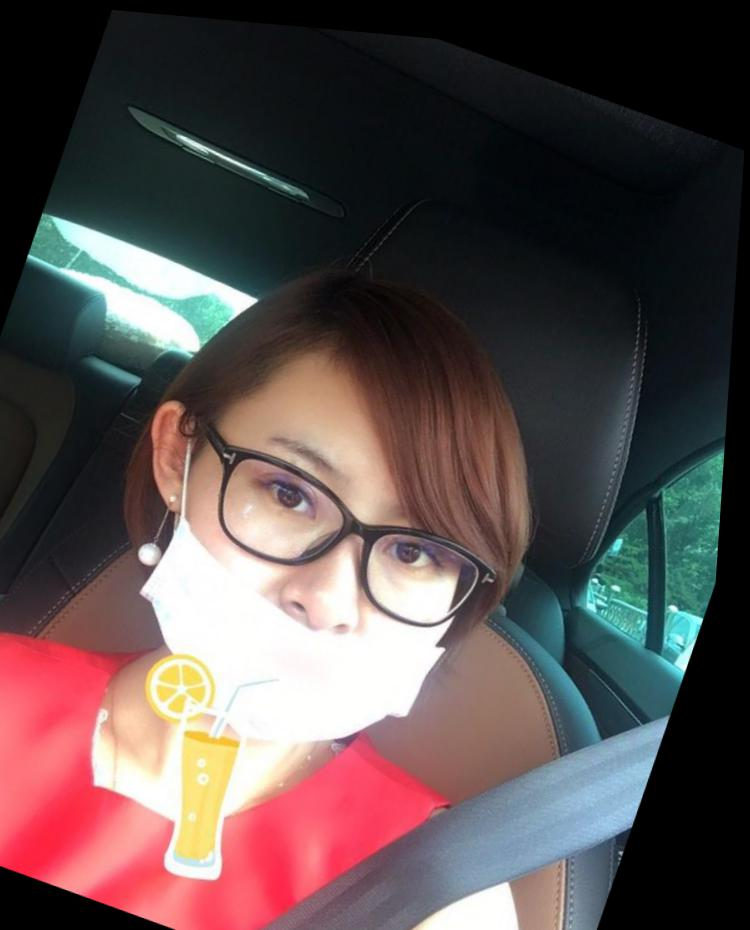WRONG: (124, 375, 508, 795)
